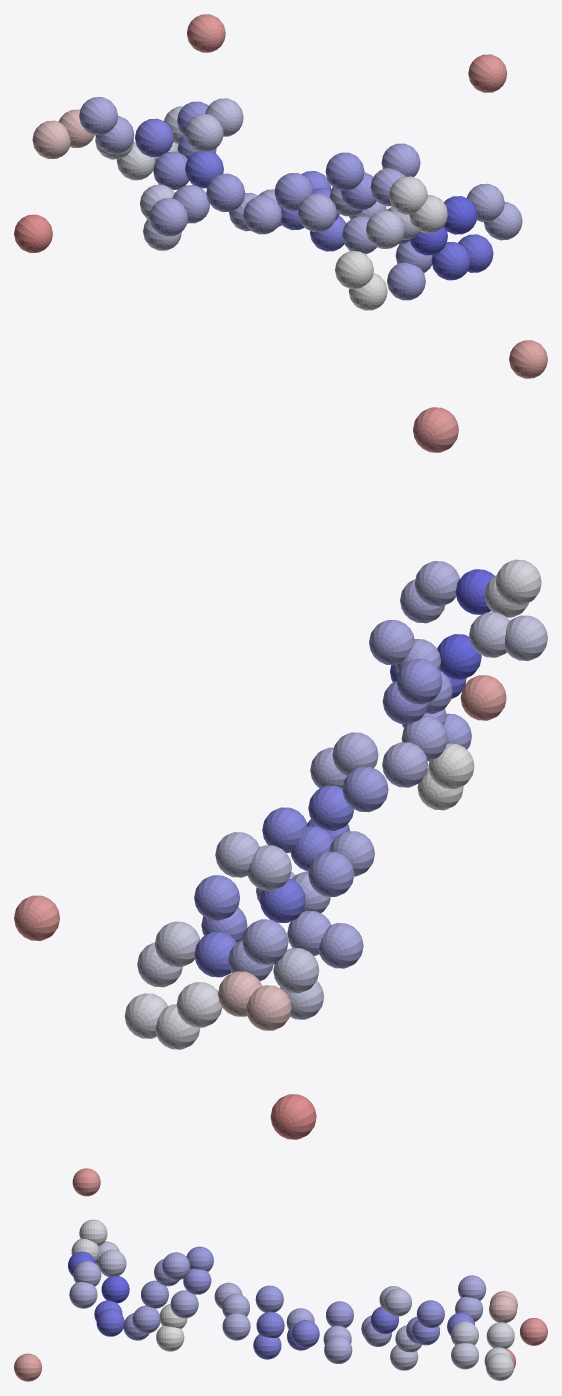
The model's file is 1bna__spheres__b-factor__H.glb.
3 renders of one model, top to bottom at view 1: azimuth 30°, elevation 25°; view 2: azimuth 150°, elevation 25°; view 3: azimuth 270°, elevation 25°, orthographic. The views are drawn at different scales.
Visible parts, largest first — view 1: Renderer Node; view 2: Renderer Node; view 3: Renderer Node.
Part boxes in pixels (bbox=[...]): Renderer Node: bbox=[14, 14, 547, 378]; Renderer Node: bbox=[14, 407, 547, 1139]; Renderer Node: bbox=[14, 1168, 547, 1381].
Bounding box in the file's own units: 16.24 × 24.78 × 45.47.
